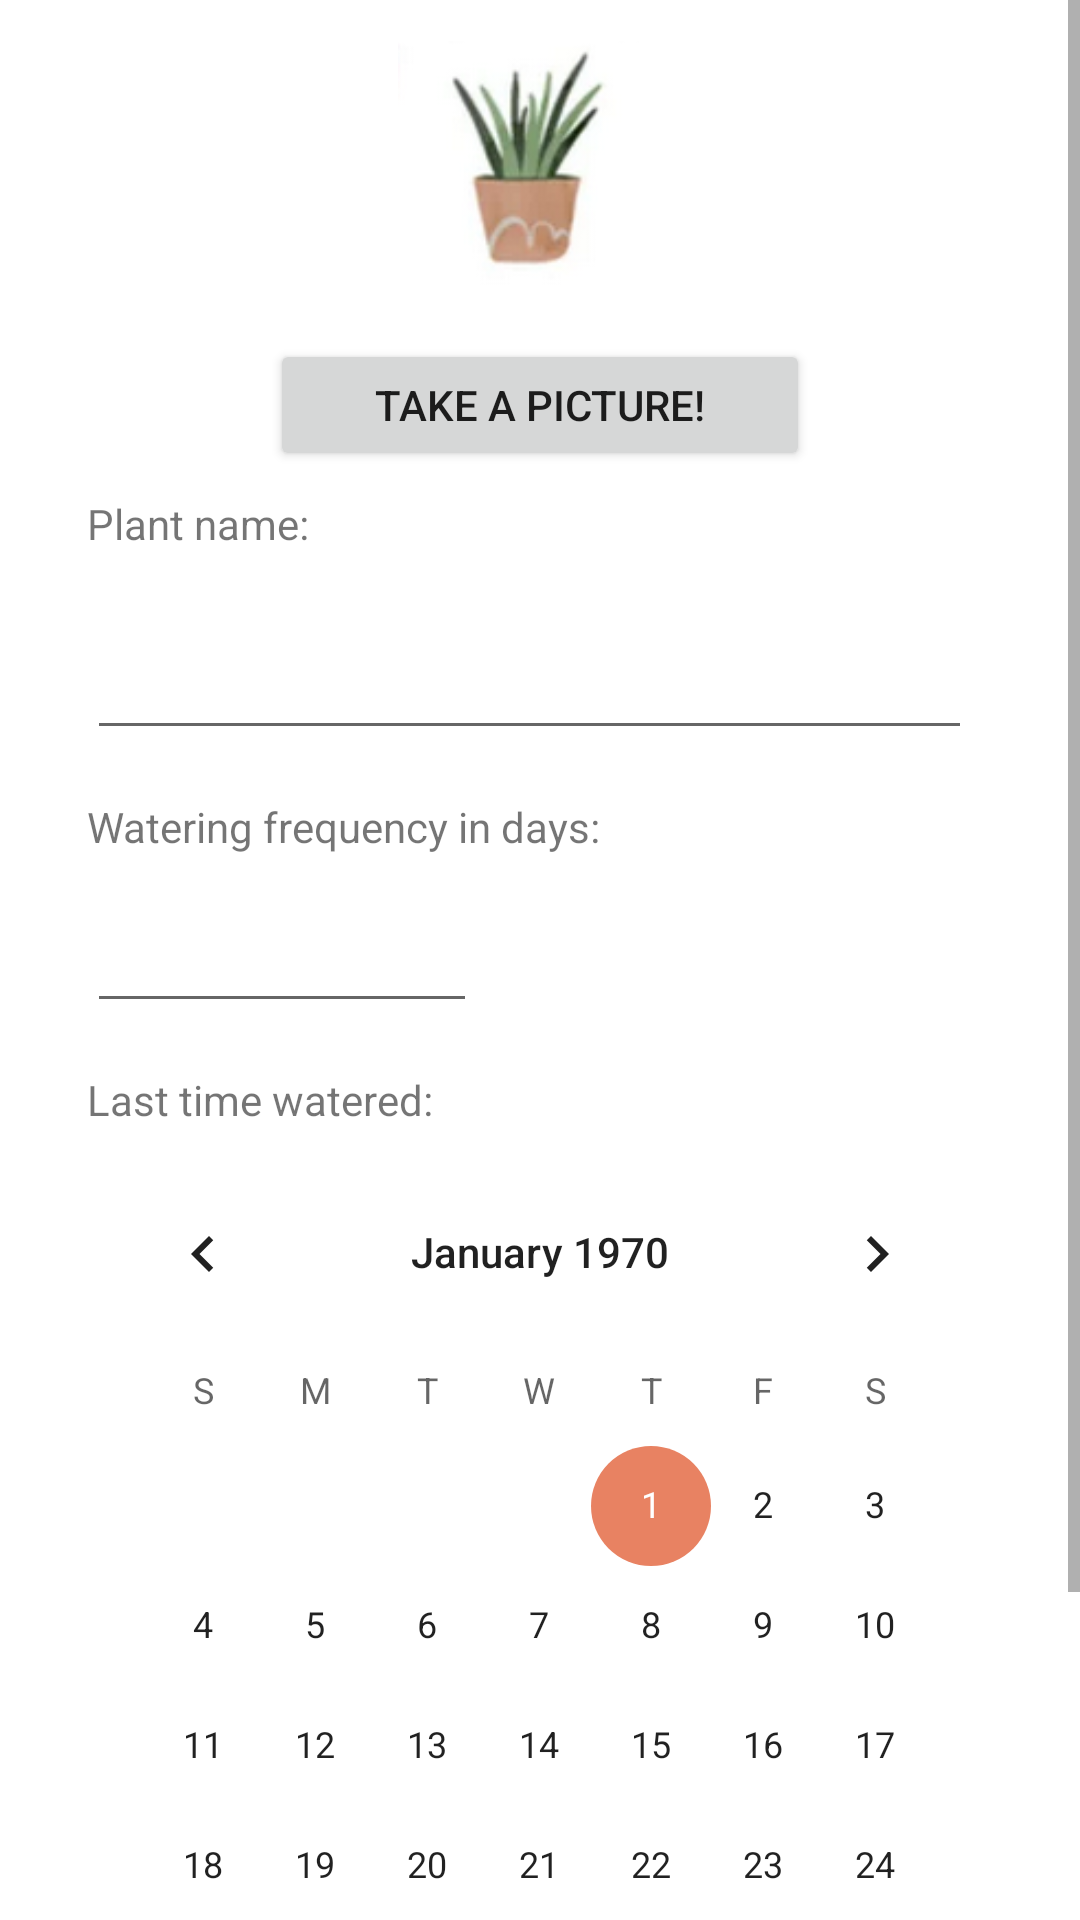

Icons on this 1080px×1920px Android screen, each with the point to tap as (x=x, y=y):
plant: (x=527, y=158)
